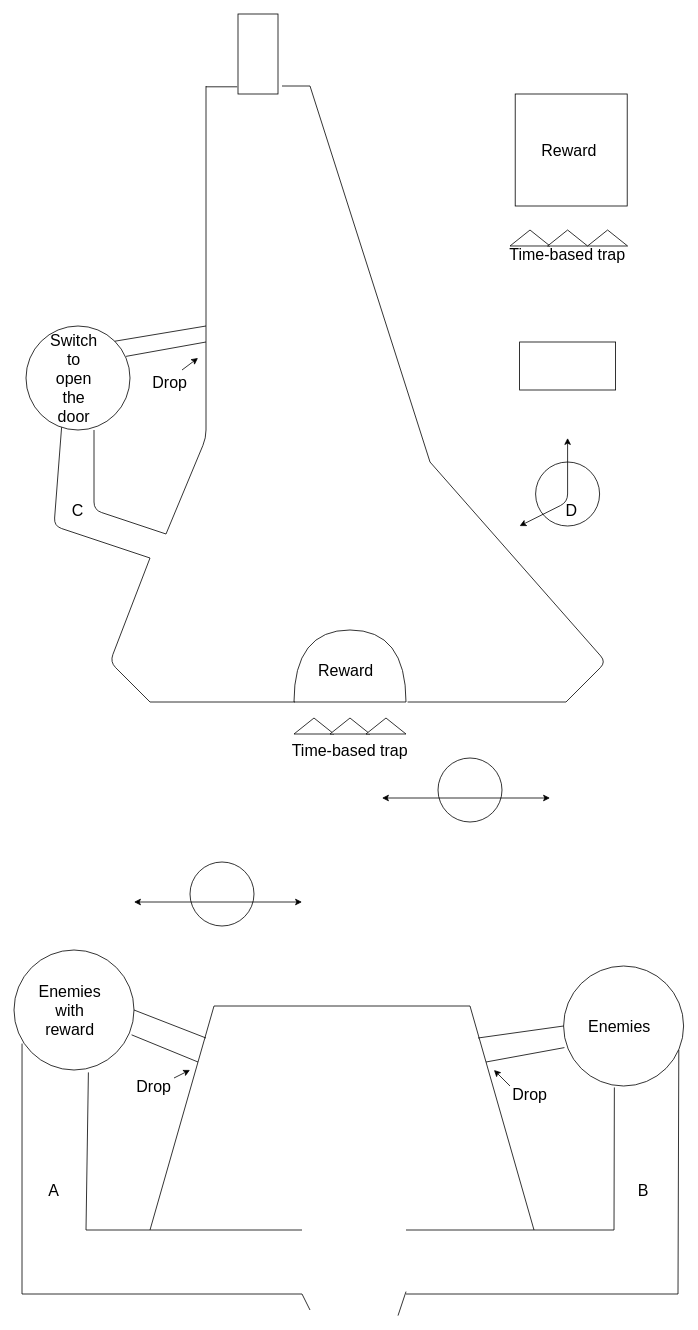
This 698x1330 diagram has some shape labels left out. Here are the shapes that lost their labels. From the top down, the centre of each, then its label:
At point 257,53: "Door".
At point 567,365: "Jumpable obstacle".
